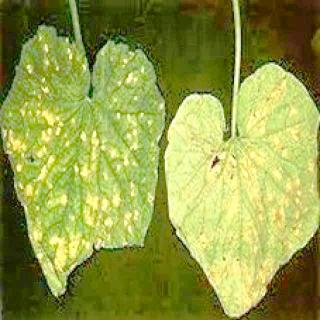leaf spot: (4, 29, 148, 289), (177, 80, 320, 314)
